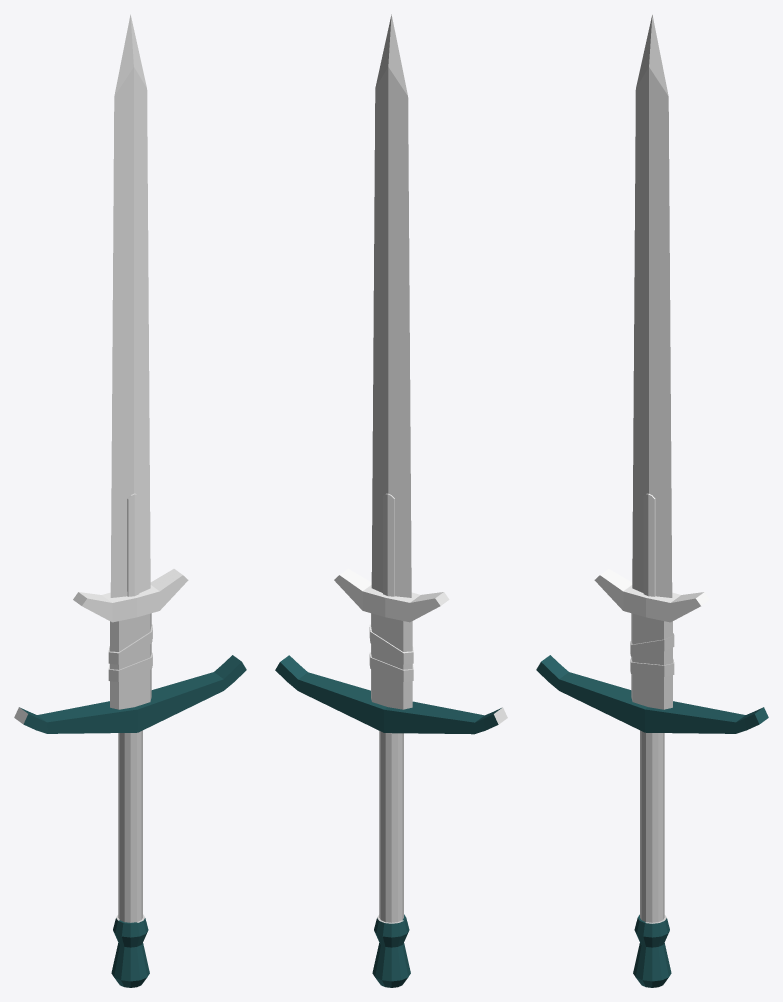
The model's file is Двуручное-Меч.fbx.
3 views of the same model, side by side, from view 1: azimuth 30°, elevation 25°; view 2: azimuth 150°, elevation 25°; view 3: azimuth 330°, elevation 25° (orthographic).
Visible parts, largest first — view 1: Двуручное; view 2: Двуручное; view 3: Двуручное.
Boxes of the visible parts, x1=… form: Двуручное: x1=14, y1=14, x2=246, y2=987; Двуручное: x1=275, y1=14, x2=507, y2=987; Двуручное: x1=536, y1=14, x2=768, y2=987.
Bounding box in the file's own units: 0.1936 × 0.8017 × 0.0289.
